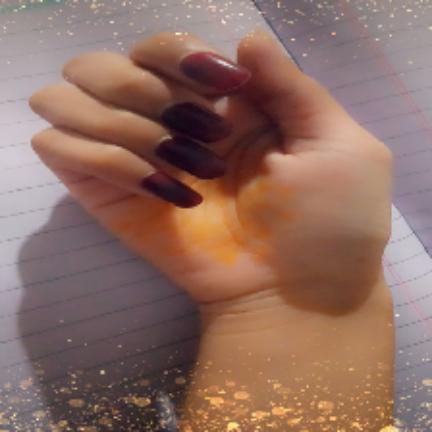Nail: (157, 136, 226, 179), (180, 52, 251, 92), (161, 102, 230, 143), (142, 172, 203, 208)
